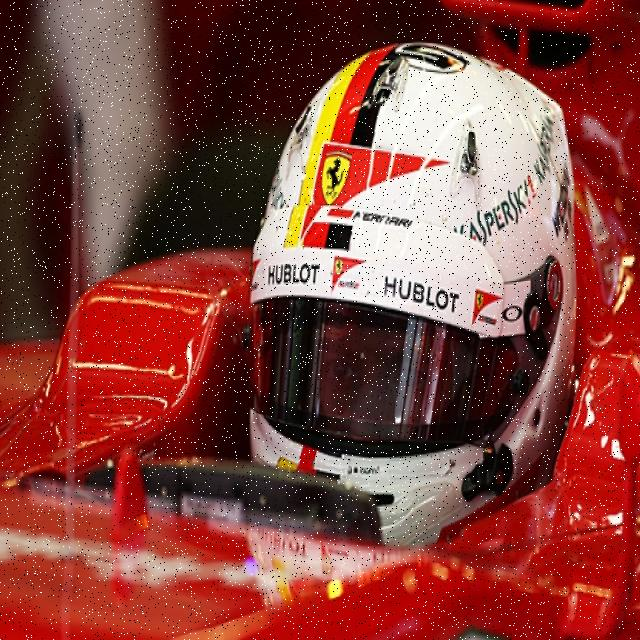Helmet: (246, 40, 587, 554)
